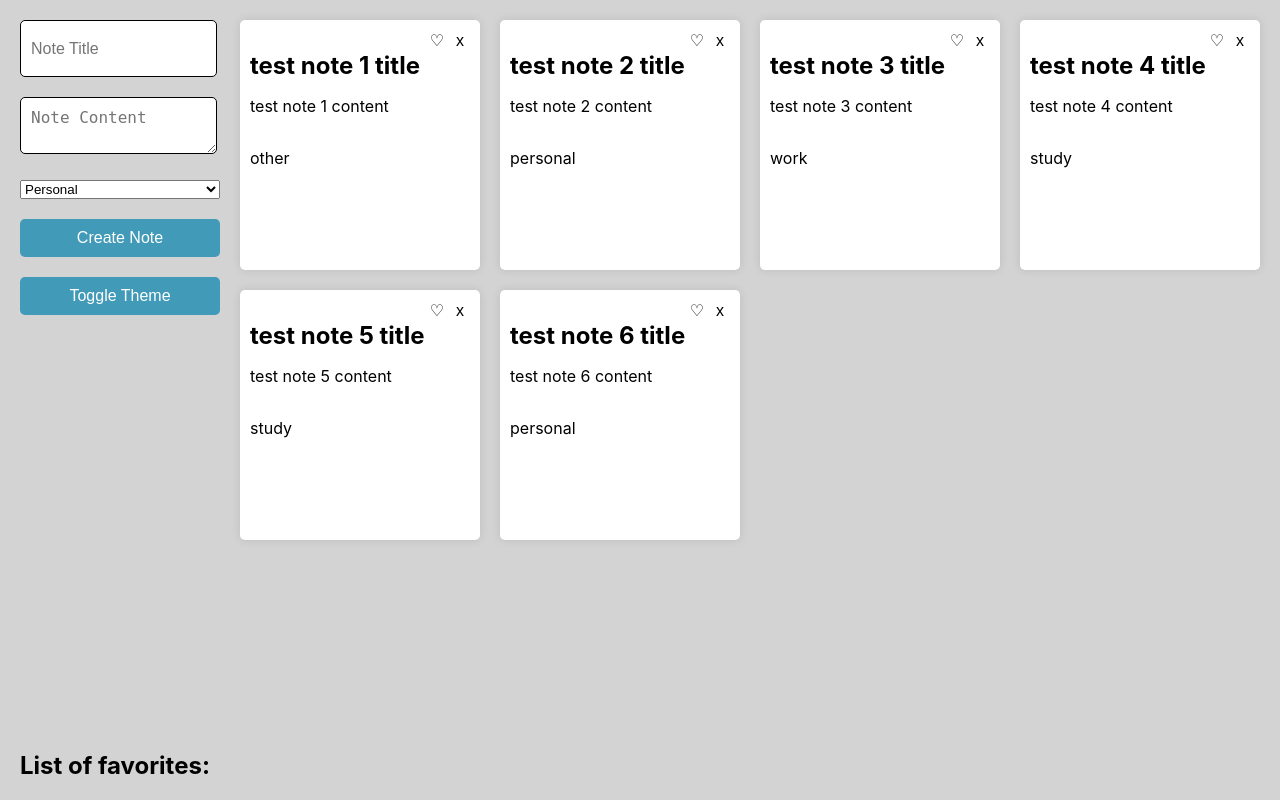
Test: Create Sticky Note › creates a new note
Type "New Note" into the field with placeholder "Note Title".
click(118, 48); type("New Note")  # box x1=20 y1=20 x2=217 y2=77
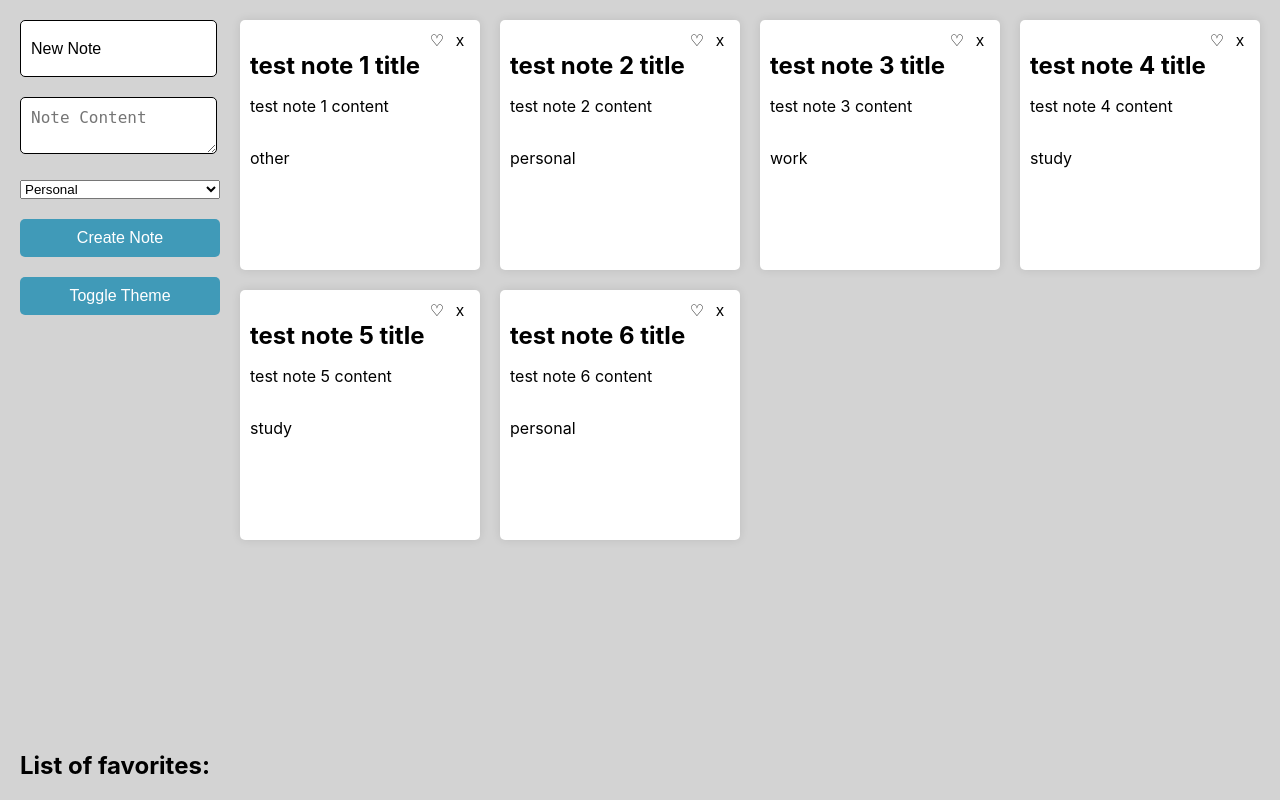
Type "Note content" into the text box with placeholder "Note Content".
click(118, 126); type("Note content")  # box x1=20 y1=97 x2=217 y2=154
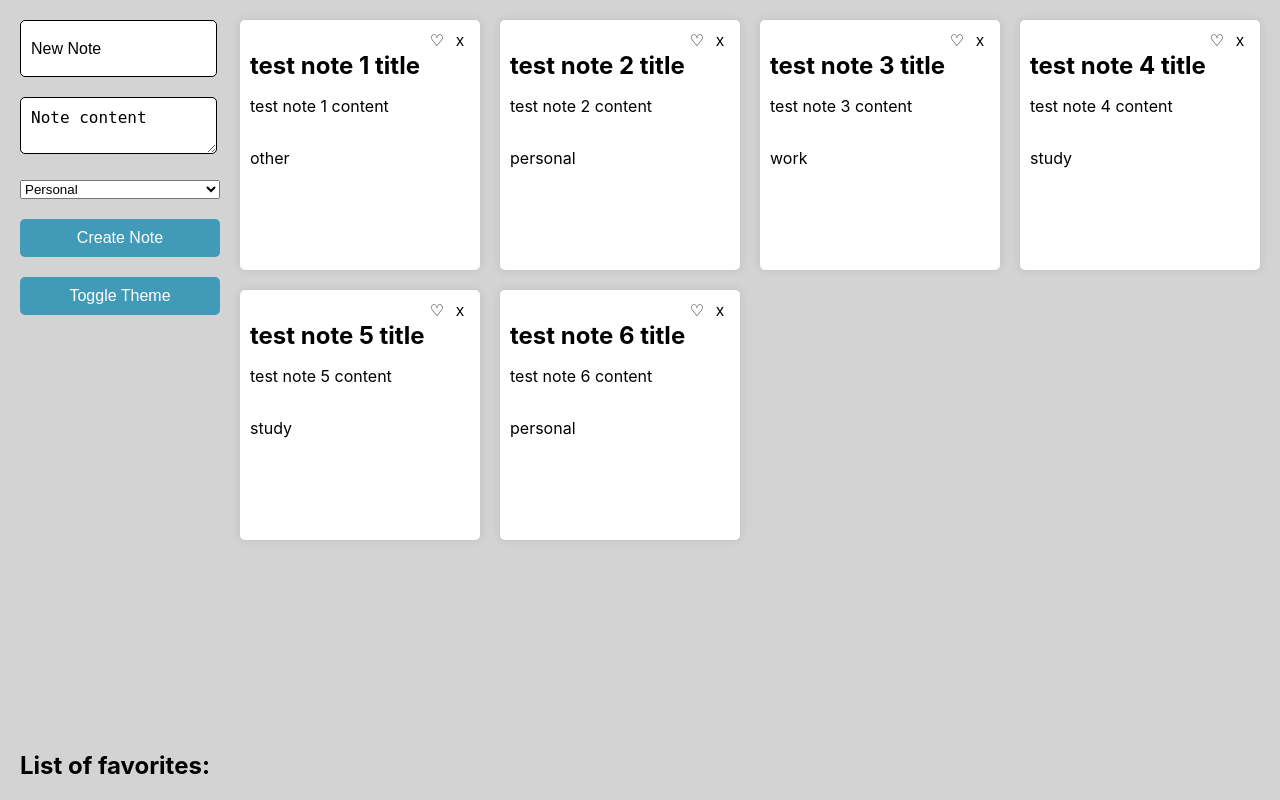
Click the button "Create Note".
click(120, 238)  # box x1=20 y1=219 x2=220 y2=257
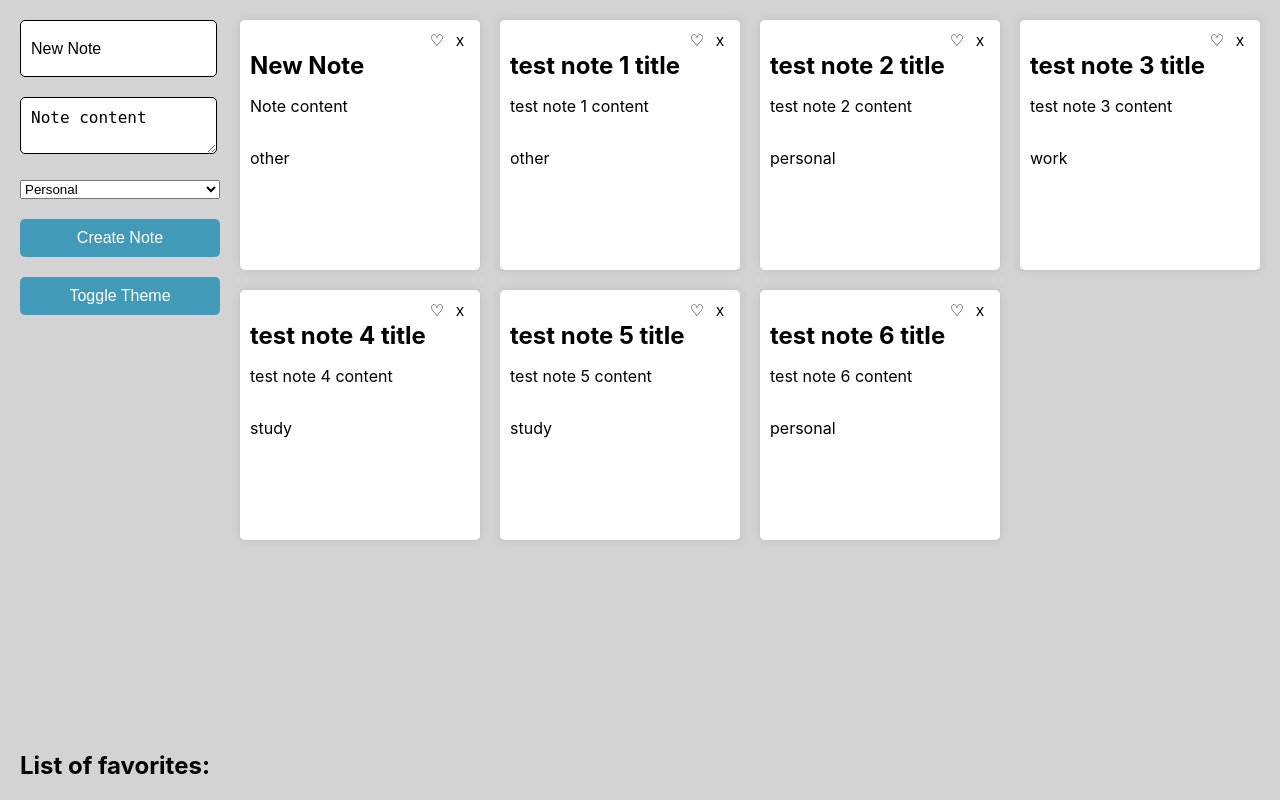
Now the heading "New Note" is shown, box x1=250 y1=51 x2=364 y2=80
Now the text box "Note content" is shown, box x1=250 y1=96 x2=348 y2=116
